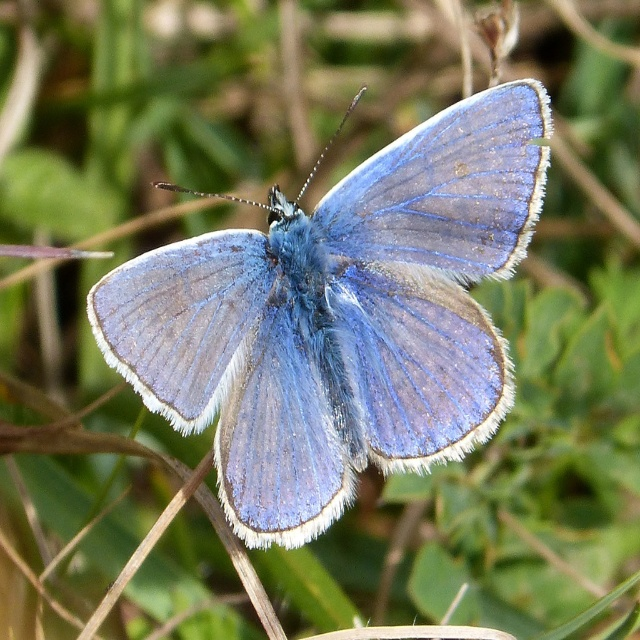Butterfly: (82, 72, 556, 557)
